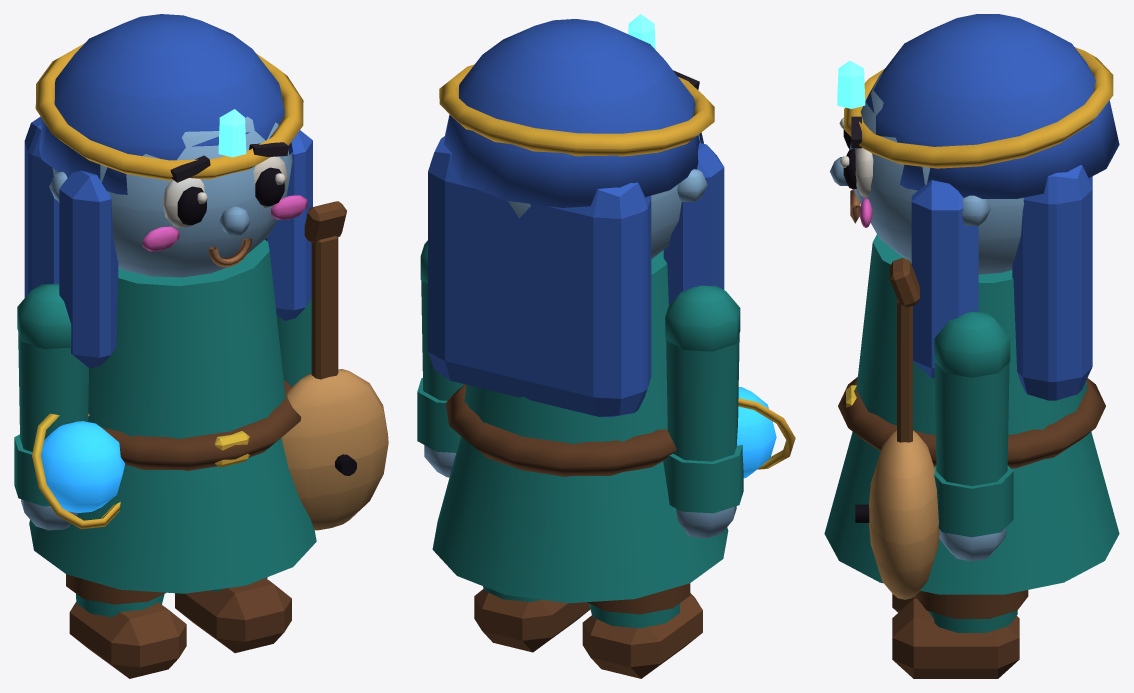
Rendered from hero_nerine.glb.
3 renders of one model, left to right at view 1: azimuth 30°, elevation 25°; view 2: azimuth 150°, elevation 25°; view 3: azimuth 270°, elevation 25°, orthographic. The views are drawn at different scales.
Parts seen in each view (by area): view 1: body_t0_palette, armr_t0_palette, arml_t0_palette, legl_t0_palette, arml_t0_water, legr_t0_palette, body_t0_crystal; view 2: body_t0_palette, arml_t0_palette, legl_t0_palette, legr_t0_palette, armr_t0_palette, arml_t0_water, body_t0_crystal; view 3: body_t0_palette, armr_t0_palette, legr_t0_palette, body_t0_crystal.
Boxes of the visible parts, left/top/right/bottom form: body_t0_palette: left=24, top=14, right=316, bottom=593; armr_t0_palette: left=276, top=201, right=388, bottom=530; arml_t0_palette: left=14, top=283, right=120, bottom=530; legl_t0_palette: left=66, top=574, right=186, bottom=678; arml_t0_water: left=41, top=421, right=125, bottom=512; legr_t0_palette: left=175, top=577, right=291, bottom=652; body_t0_crystal: left=218, top=109, right=246, bottom=157; body_t0_palette: left=428, top=19, right=728, bottom=603; arml_t0_palette: left=663, top=285, right=795, bottom=537; legl_t0_palette: left=582, top=583, right=702, bottom=678; legr_t0_palette: left=474, top=586, right=590, bottom=652; armr_t0_palette: left=417, top=240, right=464, bottom=477; arml_t0_water: left=737, top=387, right=776, bottom=478; body_t0_crystal: left=628, top=14, right=655, bottom=49; body_t0_palette: left=824, top=14, right=1119, bottom=594; armr_t0_palette: left=855, top=258, right=1013, bottom=599; legr_t0_palette: left=892, top=590, right=1028, bottom=678; body_t0_crystal: left=837, top=60, right=865, bottom=108.
Size of the model in its own units: 0.309 by 0.508 by 0.22.
